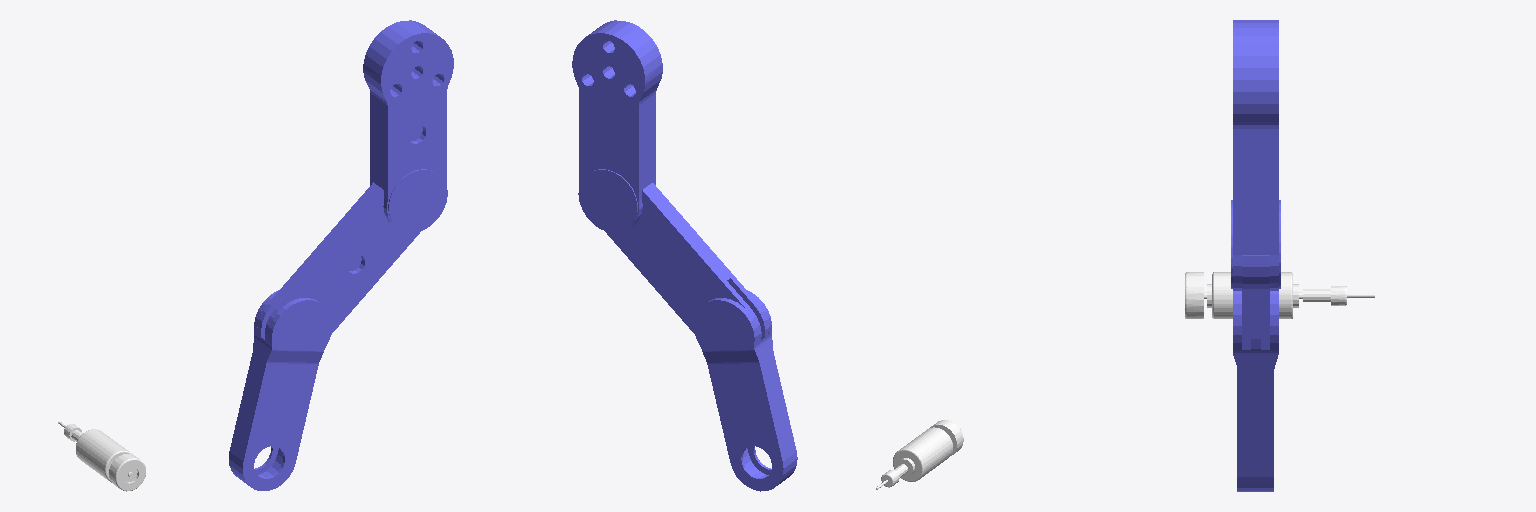
The robot description file, URDF, robot "Tay_Gap_Discription":
<?xml version="1.0" encoding="utf-8"?>
<!-- This URDF was automatically created by SolidWorks to URDF Exporter! Originally created by [author] ([email redacted]) 
     Commit Version: 1.6.0-1-g15f4949  Build Version: 1.6.7594.29634
     For more information, please see http://wiki.ros.org/sw_urdf_exporter -->
<robot
  name="Tay_Gap_Discription">
  <link
    name="base_link">
    <inertial>
      <origin
        xyz="0.0065983702120464 -0.0257427295708328 0.336373566912517"
        rpy="0 0 0" />
      <mass
        value="2.13775890794895" />
      <inertia
        ixx="0.0447028692836465"
        ixy="-2.94763553843342E-07"
        ixz="2.53128621951432E-05"
        iyy="0.0447043656015194"
        iyz="-8.9408573484417E-06"
        izz="0.00543037915506856" />
    </inertial>
    <visual>
      <origin
        xyz="0 0 0"
        rpy="0 0 0" />
      <geometry>
        <mesh
          filename="package://Tay_Gap_Discription/meshes/base_link.STL" />
      </geometry>
      <material
        name="">
        <color
          rgba="0.792156862745098 0.819607843137255 0.933333333333333 1" />
      </material>
    </visual>
    <collision>
      <origin
        xyz="0 0 0"
        rpy="0 0 0" />
      <geometry>
        <mesh
          filename="package://Tay_Gap_Discription/meshes/base_link.STL" />
      </geometry>
    </collision>
  </link>
  <link
    name="link_1">
    <inertial>
      <origin
        xyz="-8.67361737988404E-19 -0.0718597871210987 0.026855708749388"
        rpy="0 0 0" />
      <mass
        value="0.979766055196368" />
      <inertia
        ixx="0.00747669548599809"
        ixy="-2.7998259415945E-20"
        ixz="-3.45796309842999E-20"
        iyy="0.00122674898370894"
        iyz="-3.56275974428905E-06"
        izz="0.00814613143305283" />
    </inertial>
    <visual>
      <origin
        xyz="0 0 0"
        rpy="0 0 0" />
      <geometry>
        <mesh
          filename="package://Tay_Gap_Discription/meshes/link_1.STL" />
      </geometry>
      <material
        name="">
        <color
          rgba="0.501960784313725 0.501960784313725 1 1" />
      </material>
    </visual>
    <collision>
      <origin
        xyz="0 0 0"
        rpy="0 0 0" />
      <geometry>
        <mesh
          filename="package://Tay_Gap_Discription/meshes/link_1.STL" />
      </geometry>
    </collision>
  </link>
  <joint
    name="joint_1"
    type="prismatic">
    <origin
      xyz="0.0066366 -0.35931 -0.025756"
      rpy="1.5708 0 0" />
    <parent
      link="base_link" />
    <child
      link="link_1" />
    <axis
      xyz="0 0 1" />
    <limit
      lower="-0.20369"
      upper="0.046314"
      effort="0"
      velocity="0" />
  </joint>
  <link
    name="link_2">
    <inertial>
      <origin
        xyz="-2.77555756156289E-17 -0.111115906260767 0.0149039187770866"
        rpy="0 0 0" />
      <mass
        value="0.735688332874957" />
      <inertia
        ixx="0.0070398656492512"
        ixy="-3.11708124589583E-18"
        ixz="-3.77988452712232E-20"
        iyy="0.000681755118576011"
        iyz="-9.814087550909E-07"
        izz="0.0075818839430566" />
    </inertial>
    <visual>
      <origin
        xyz="0 0 0"
        rpy="0 0 0" />
      <geometry>
        <mesh
          filename="package://Tay_Gap_Discription/meshes/link_2.STL" />
      </geometry>
      <material
        name="">
        <color
          rgba="0.501960784313725 0.501960784313725 1 1" />
      </material>
    </visual>
    <collision>
      <origin
        xyz="0 0 0"
        rpy="0 0 0" />
      <geometry>
        <mesh
          filename="package://Tay_Gap_Discription/meshes/link_2.STL" />
      </geometry>
    </collision>
  </link>
  <joint
    name="joint_2"
    type="continuous">
    <origin
      xyz="0 -0.20072 0.012"
      rpy="0 0 -0.59257" />
    <parent
      link="link_1" />
    <child
      link="link_2" />
    <axis
      xyz="0 0 1" />
  </joint>
  <link
    name="link_3">
    <inertial>
      <origin
        xyz="2.77555756156289E-16 -0.0870505907540813 0.0150000000000001"
        rpy="0 0 0" />
      <mass
        value="0.454304812581279" />
      <inertia
        ixx="0.00324975443379465"
        ixy="-9.52522430505351E-17"
        ixz="-1.79711265192459E-20"
        iyy="0.000517808450274895"
        iyz="-3.15377103999725E-20"
        izz="0.00352875533740904" />
    </inertial>
    <visual>
      <origin
        xyz="0 0 0"
        rpy="0 0 0" />
      <geometry>
        <mesh
          filename="package://Tay_Gap_Discription/meshes/link_3.STL" />
      </geometry>
      <material
        name="">
        <color
          rgba="0.501960784313725 0.501960784313725 1 1" />
      </material>
    </visual>
    <collision>
      <origin
        xyz="0 0 0"
        rpy="0 0 0" />
      <geometry>
        <mesh
          filename="package://Tay_Gap_Discription/meshes/link_3.STL" />
      </geometry>
    </collision>
  </link>
  <joint
    name="joint_3"
    type="continuous">
    <origin
      xyz="0 -0.25 0"
      rpy="0 0 -0.99443" />
    <parent
      link="link_2" />
    <child
      link="link_3" />
    <axis
      xyz="0 0 1" />
  </joint>
  <link
    name="linh_4">
    <inertial>
      <origin
        xyz="0.024711813445236 -2.77555756156289E-17 0"
        rpy="0 0 0" />
      <mass
        value="0.232492314942096" />
      <inertia
        ixx="7.02011095564576E-05"
        ixy="1.75282168077834E-20"
        ixz="5.70077452303869E-20"
        iyy="0.000387194299609599"
        iyz="0"
        izz="0.000387194299609599" />
    </inertial>
    <visual>
      <origin
        xyz="0 0 0"
        rpy="0 0 0" />
      <geometry>
        <mesh
          filename="package://Tay_Gap_Discription/meshes/linh_4.STL" />
      </geometry>
      <material
        name="">
        <color
          rgba="1 1 1 1" />
      </material>
    </visual>
    <collision>
      <origin
        xyz="0 0 0"
        rpy="0 0 0" />
      <geometry>
        <mesh
          filename="package://Tay_Gap_Discription/meshes/linh_4.STL" />
      </geometry>
    </collision>
  </link>
  <joint
    name="joint_4"
    type="continuous">
    <origin
      xyz="0 -0.2 0"
      rpy="0.75127 -1.5708 0" />
    <parent
      link="link_3" />
    <child
      link="linh_4" />
    <axis
      xyz="1 0 0" />
  </joint>
</robot>

--- Render facts (derived) ---
3 views of the same robot in one strip: view 1: azimuth 30°, elevation 25°; view 2: azimuth 150°, elevation 25°; view 3: azimuth 270°, elevation 25° (orthographic).
Model Tay_Gap_Discription with 5 links and 4 joints (3 continuous, 1 prismatic), rooted at base_link, posed all joints at 0.
Links seen in each view (by area): view 1: link_1, link_3, link_2, linh_4; view 2: link_1, link_3, link_2, linh_4; view 3: link_1, link_3, linh_4, link_2.
Link boxes in pixels (bbox=[...]): link_1: bbox=[363, 20, 453, 232]; link_3: bbox=[229, 290, 331, 490]; link_2: bbox=[258, 182, 420, 341]; linh_4: bbox=[58, 421, 145, 491]; link_1: bbox=[572, 20, 662, 232]; link_3: bbox=[694, 290, 797, 491]; link_2: bbox=[605, 183, 768, 341]; linh_4: bbox=[876, 420, 963, 489]; link_1: bbox=[1231, 20, 1280, 290]; link_3: bbox=[1233, 291, 1278, 491]; linh_4: bbox=[1185, 272, 1374, 318]; link_2: bbox=[1242, 255, 1269, 349].
Bounding box of the posed robot: 0.5839 × 0.205 × 0.6613 m (x, y, z).
4 mesh visuals loaded from 5 distinct referenced files (4 binary STL); not drawn: 1 (reference not matched to a file when rendering).
